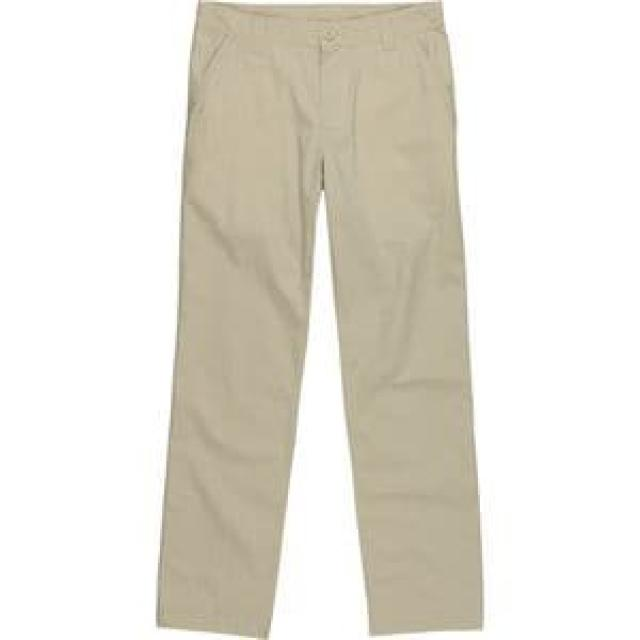long-pants: (152, 0, 486, 639)
